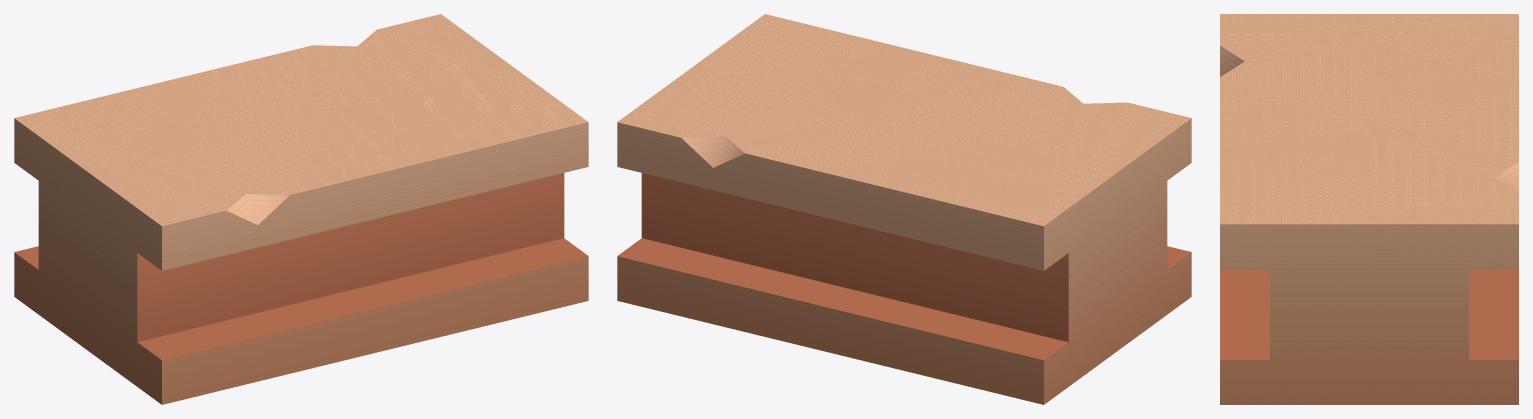
3 renders of one model, left to right at view 1: azimuth 30°, elevation 25°; view 2: azimuth 150°, elevation 25°; view 3: azimuth 270°, elevation 25°, orthographic.
Parts seen in each view (by area): view 1: border-straight; view 2: border-straight; view 3: border-straight.
Boxes of the visible parts, x1,y1,x2,y2 form: border-straight: [14, 14, 588, 404]; border-straight: [617, 14, 1191, 404]; border-straight: [1220, 14, 1518, 404].
Size of the model in its own units: 1 by 0.4 by 0.6.
Materials: 1 (1 with a texture image).
